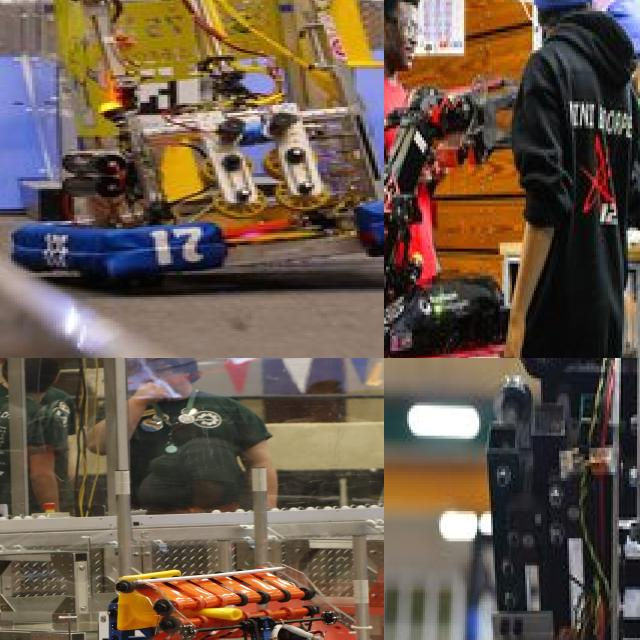FRC-Robots: (17, 0, 384, 281), (384, 61, 531, 358), (498, 358, 640, 631), (23, 536, 384, 640)
